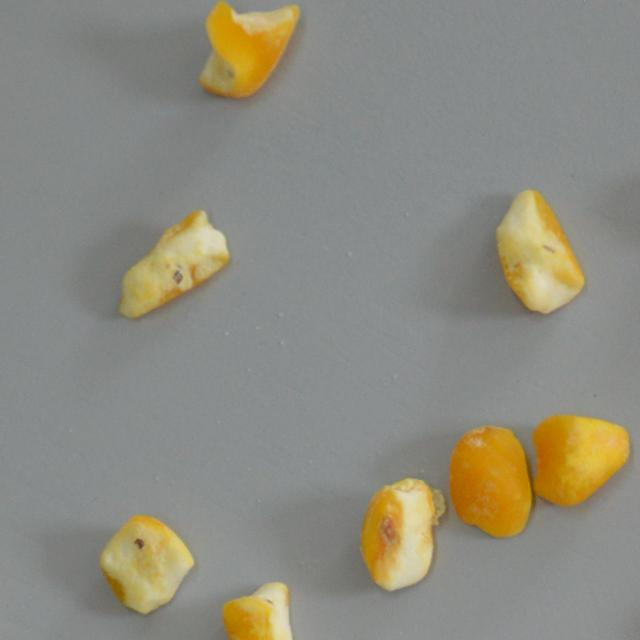dañado: (356, 472, 449, 596)
estandar: (529, 407, 640, 512)
pelicula: (447, 422, 534, 541)
punto_negro: (116, 206, 232, 326), (493, 184, 586, 318), (100, 509, 198, 619), (196, 0, 300, 96), (218, 577, 296, 640)
